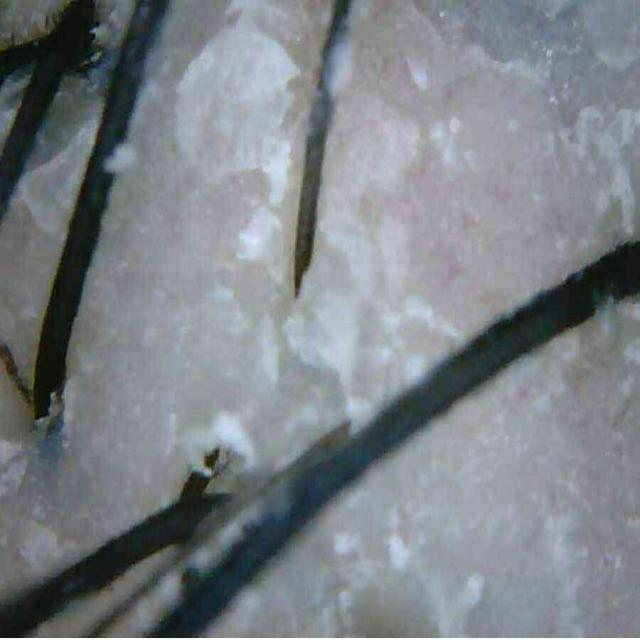d: (179, 407, 260, 479), (428, 569, 482, 632), (240, 309, 285, 384), (100, 139, 141, 176), (329, 35, 352, 98), (404, 59, 433, 97)
ds: (165, 0, 310, 209), (281, 279, 381, 439), (16, 118, 99, 235), (575, 106, 640, 236), (379, 289, 475, 375), (234, 204, 289, 286), (0, 440, 28, 499)
